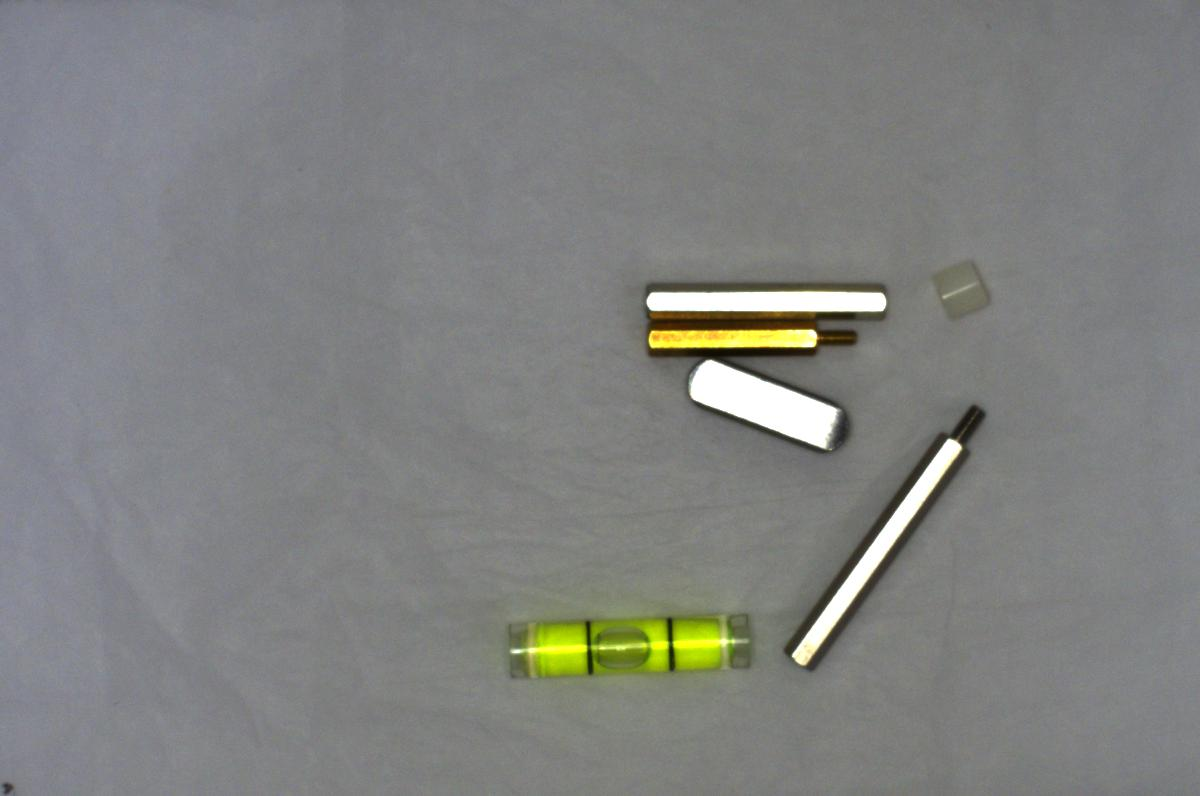Double hexagonal column: (633, 273, 898, 321)
Hexagon pillar: (644, 321, 862, 362)
Hexagonal steel column: (784, 395, 1003, 674)
Horizontal bubble: (496, 608, 769, 689)
Keybar: (673, 354, 861, 456)
Plastic cushion pillar: (928, 253, 1001, 333)
